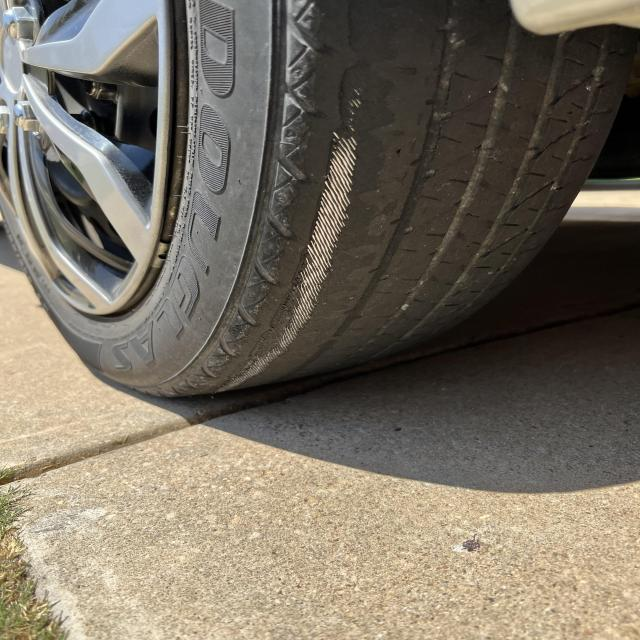Flat spots: (317, 0, 507, 323)
